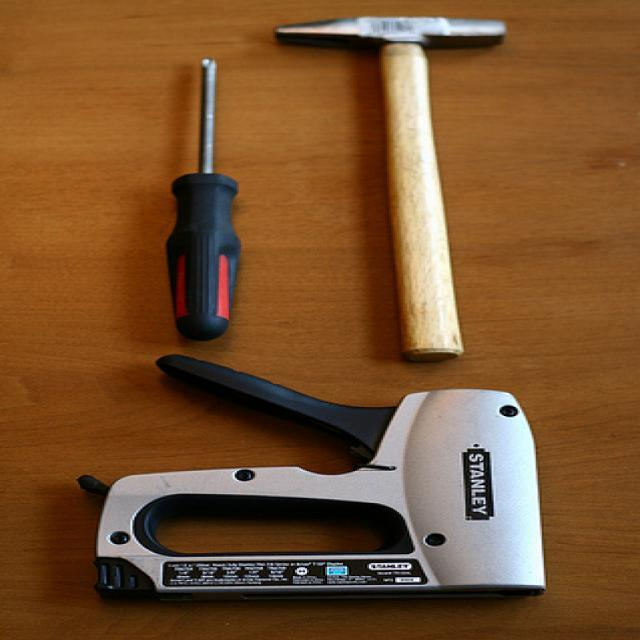hammer: (264, 12, 514, 370)
screwdriver: (155, 52, 252, 346)
